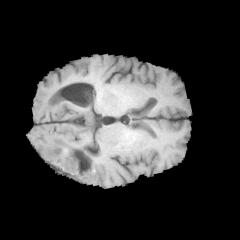glioma: (38, 138, 95, 185)
